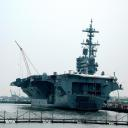Portanaves: (10, 16, 125, 114)
